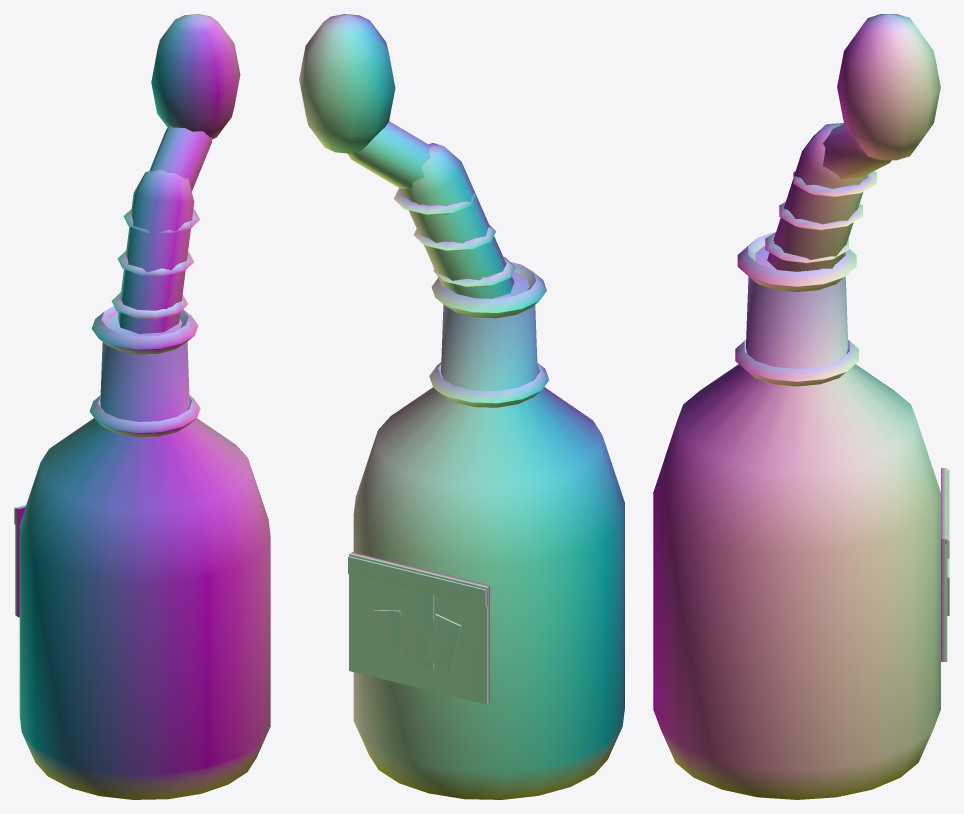
File: gad_molotov.glb
The picture shows the model from 3 angles, left to right: view 1: azimuth 30°, elevation 25°; view 2: azimuth 150°, elevation 25°; view 3: azimuth 270°, elevation 25°; orthographic projection. The views are drawn at different scales.
Parts seen in each view (by area): view 1: molotov; view 2: molotov; view 3: molotov.
Boxes of the visible parts, x1,y1,x2,y2 form: molotov: (14, 14, 270, 799); molotov: (299, 14, 624, 799); molotov: (653, 14, 949, 799).
Size of the model in its own units: 0.0784 by 0.216 by 0.0742.
